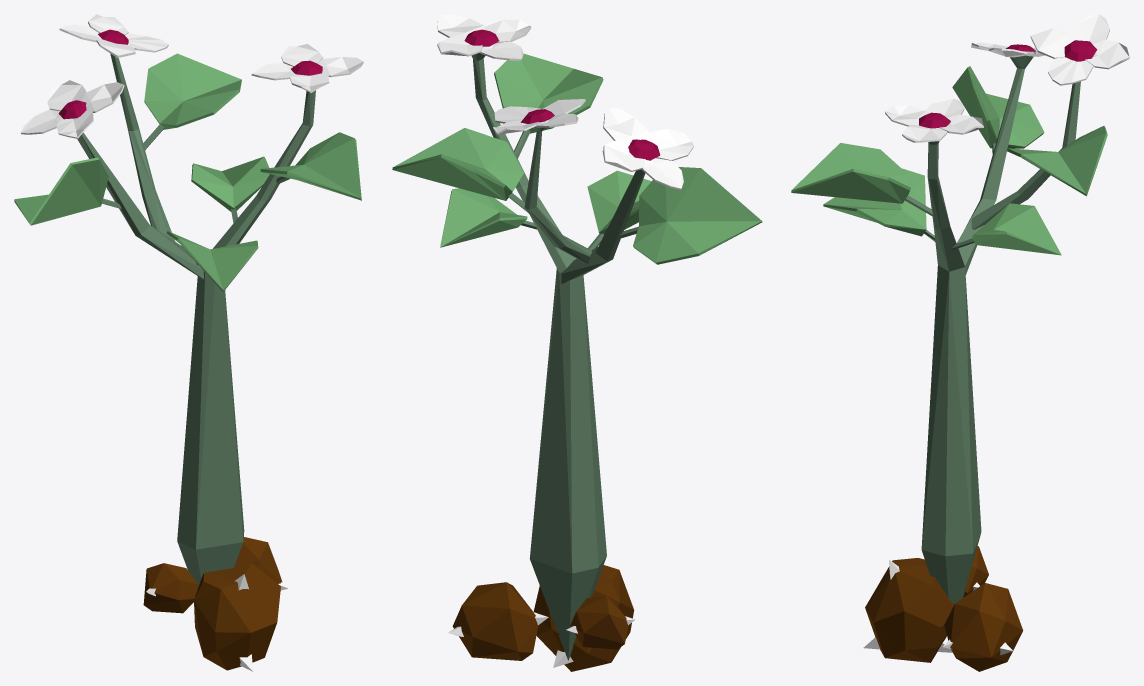
The model's file is potato.glb.
3 views of the same model, side by side, from view 1: azimuth 30°, elevation 25°; view 2: azimuth 150°, elevation 25°; view 3: azimuth 270°, elevation 25° (orthographic). The views are drawn at different scales.
Visible parts, largest first — view 1: potato; view 2: potato; view 3: potato.
Boxes of the visible parts, <box> form: potato: <box>14,14,363,671</box>; potato: <box>392,14,762,671</box>; potato: <box>791,14,1129,671</box>.
Bounding box in the file's own units: 0.4845 × 0.8654 × 0.4386.
1 material, 1 textured.
